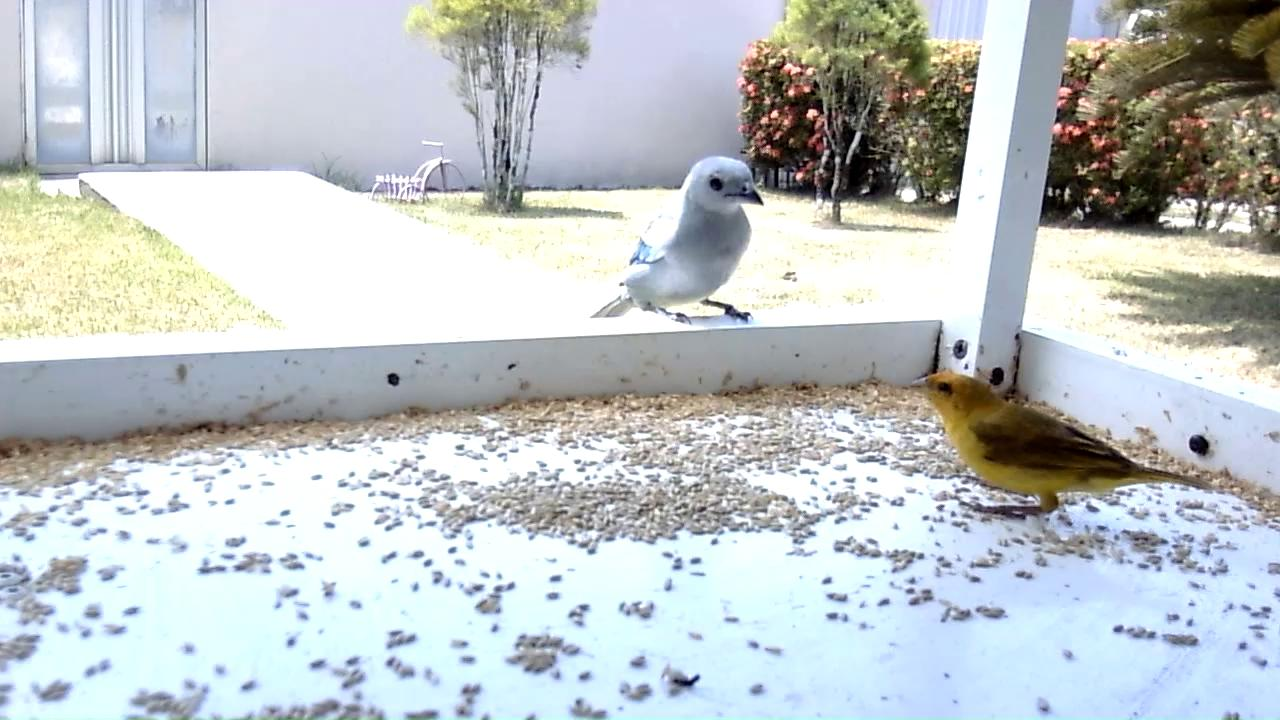canario_do_amazonas: (910, 370, 1207, 521)
sanhaco_da_amazonia: (591, 155, 767, 328)
